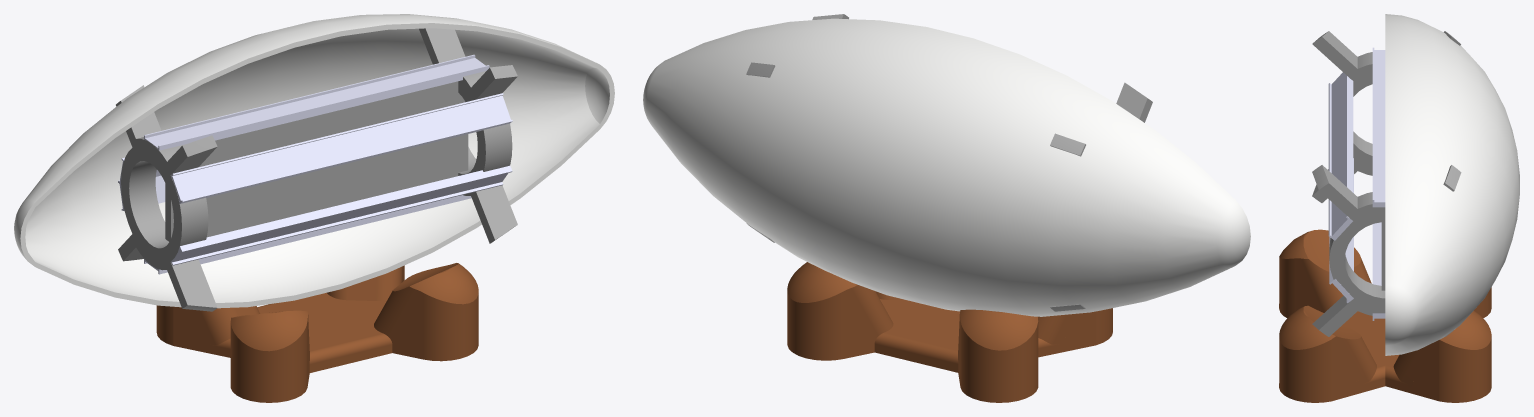
File: lamp-final-see-through-render.glb
3 renders of one model, left to right at view 1: azimuth 30°, elevation 25°; view 2: azimuth 150°, elevation 25°; view 3: azimuth 270°, elevation 25°, orthographic. The views are drawn at different scales.
Parts seen in each view (by area): view 1: LED Zeppelin final design; view 2: LED Zeppelin final design; view 3: LED Zeppelin final design.
Part boxes in pixels (<box>): LED Zeppelin final design: <box>14,14,614,402</box>; LED Zeppelin final design: <box>643,14,1250,402</box>; LED Zeppelin final design: <box>1279,14,1519,402</box>.
Size of the model in its own units: 36 by 17.47 by 13.36.
